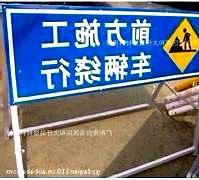sign: (6, 8, 199, 90)
